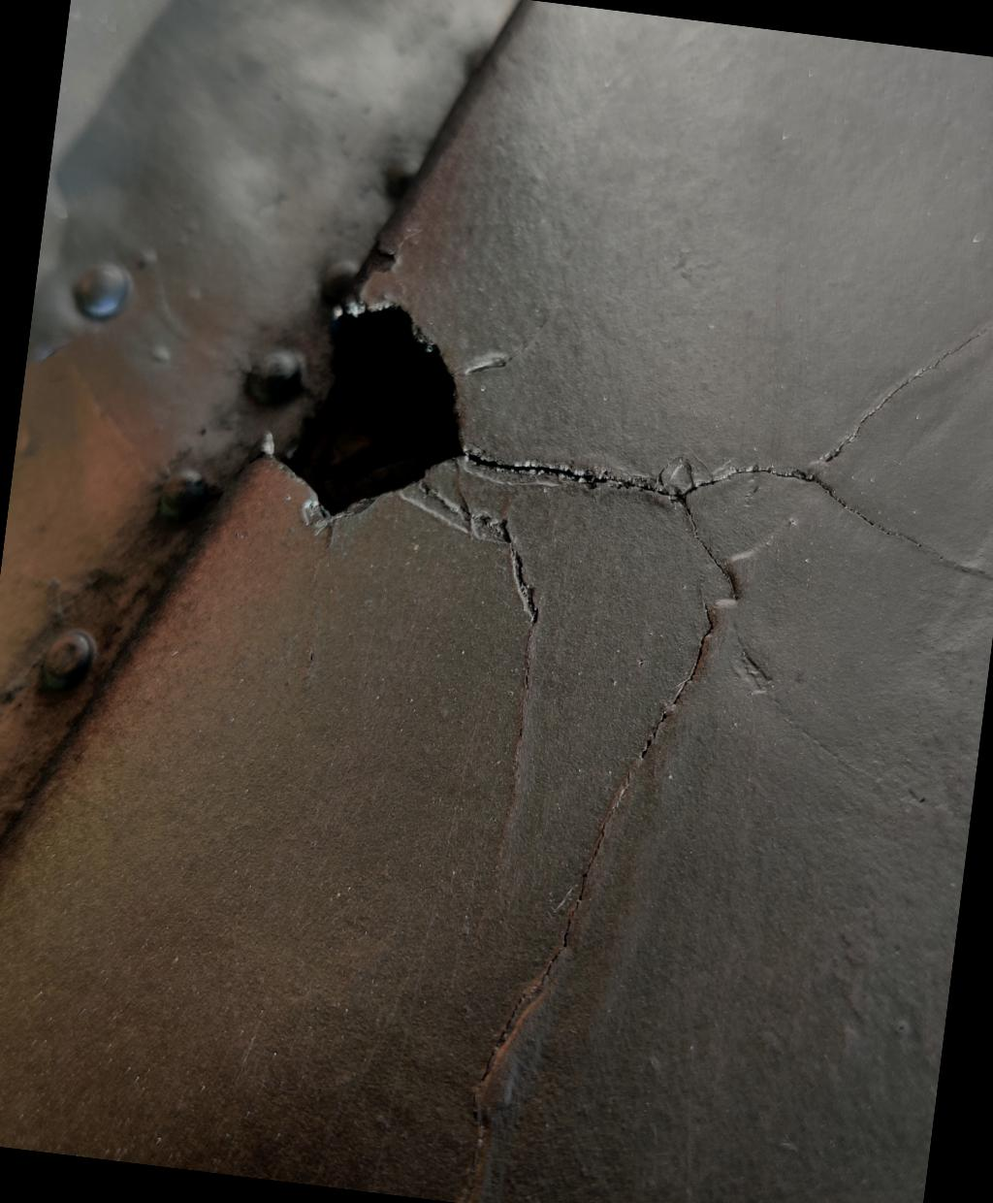crack: (130, 0, 663, 955)
